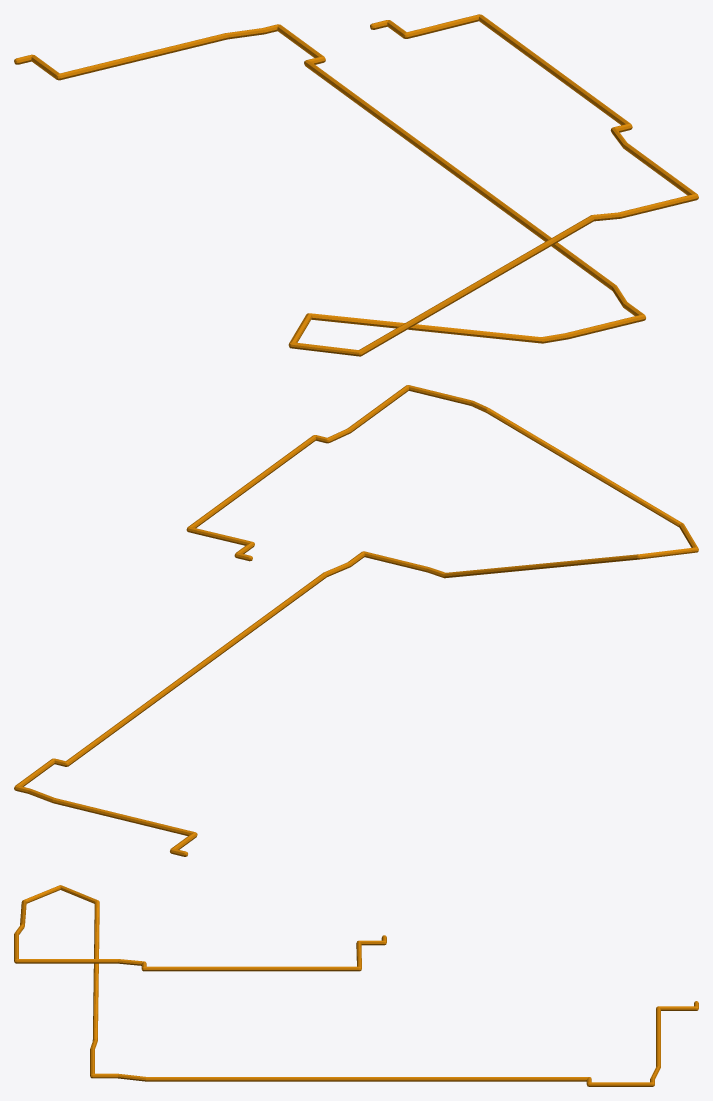
3 renders of one model, top to bottom at view 1: azimuth 30°, elevation 25°; view 2: azimuth 150°, elevation 25°; view 3: azimuth 270°, elevation 25°, orthographic. The views are drawn at different scales.
Bounding box in the file's own units: 1325 × 520 × 2704.
